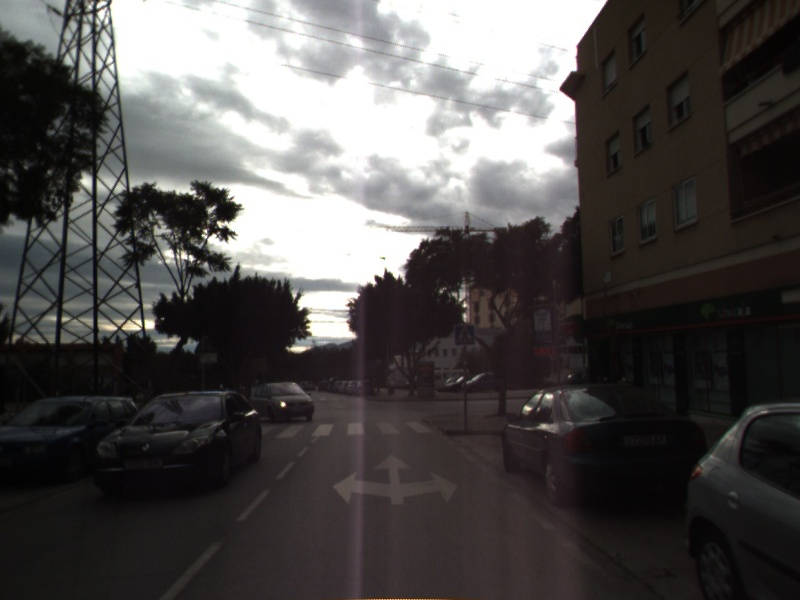STRAIGHT_LEFT_RIGHT: (330, 452, 460, 507)
